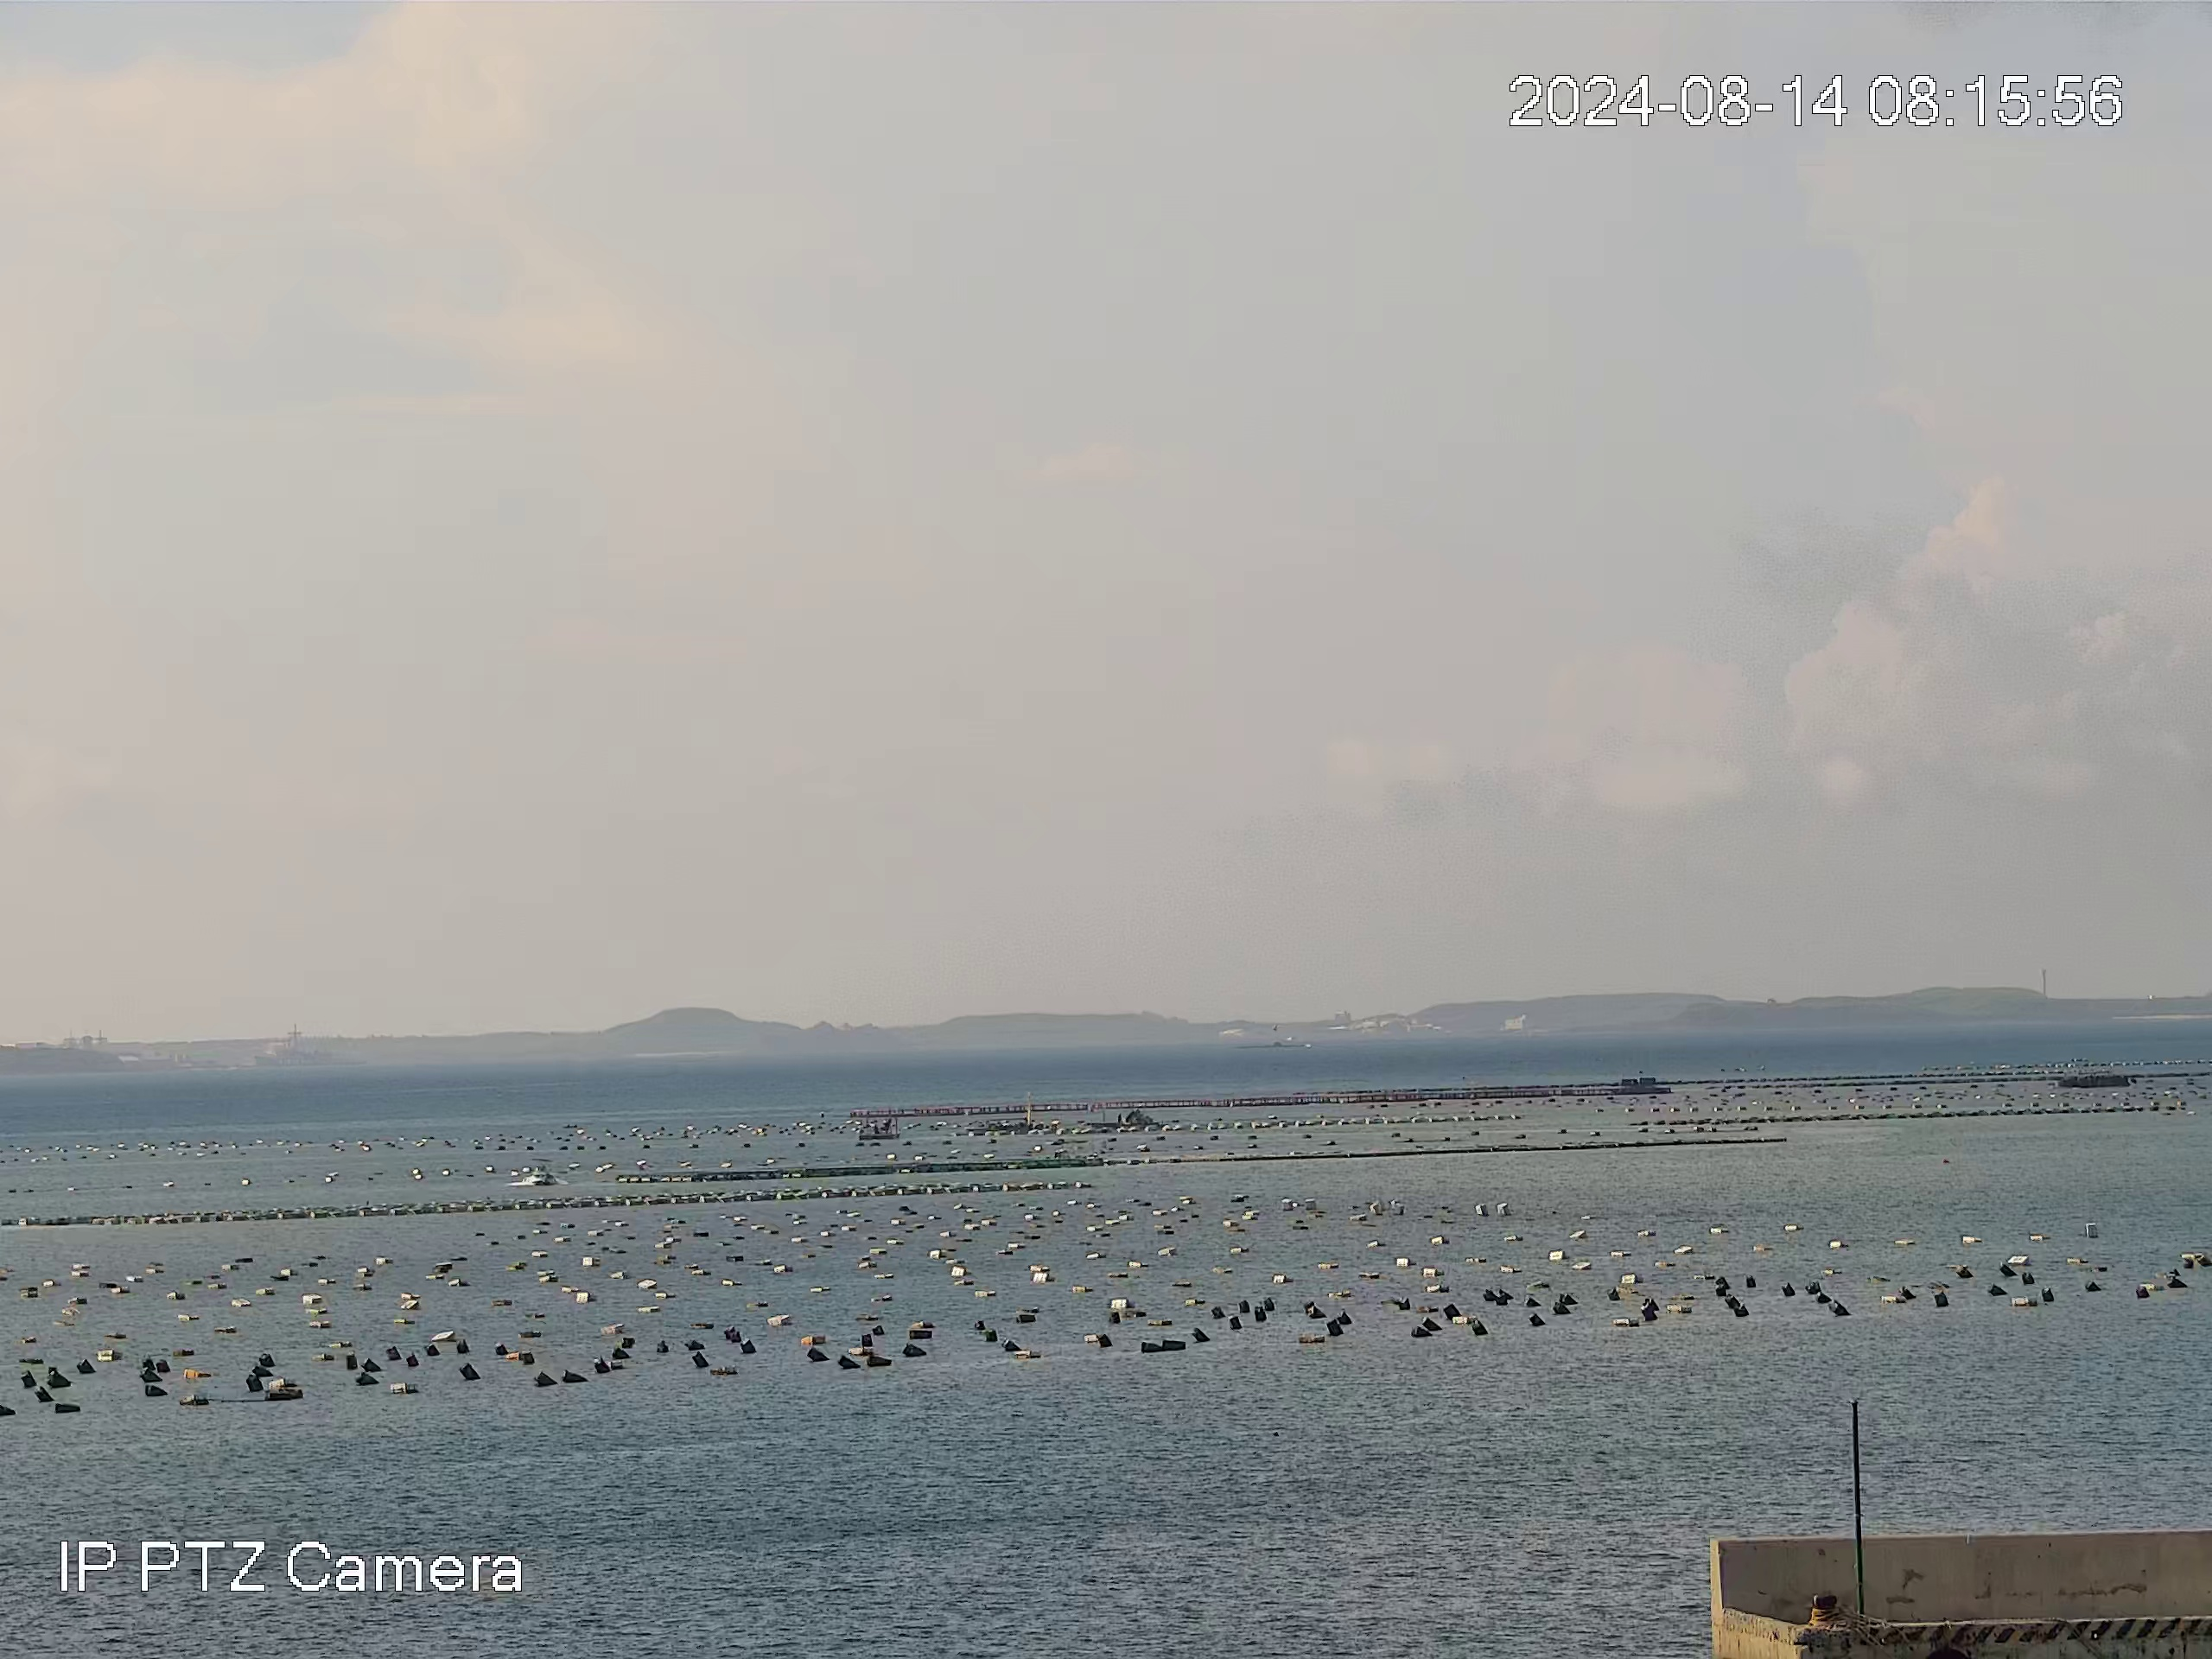boat: (850, 1108, 907, 1143), (2059, 1066, 2135, 1089)
